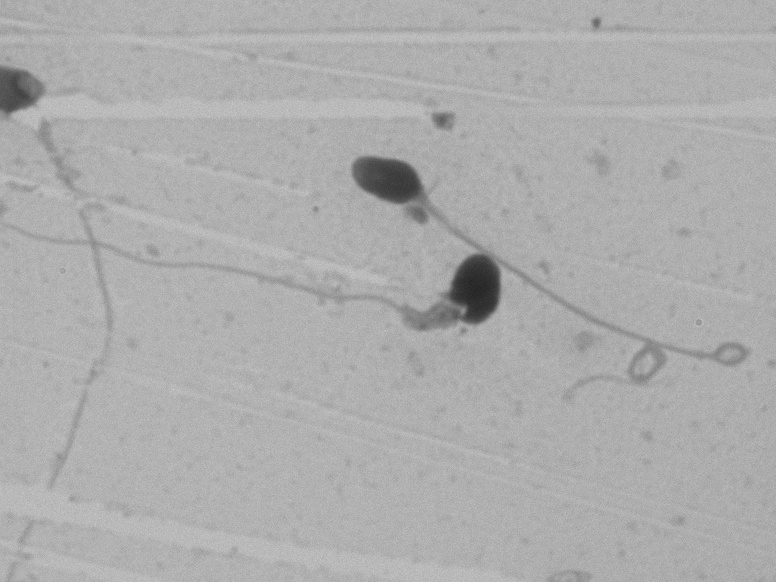Abnormal: (335, 115, 747, 447)
